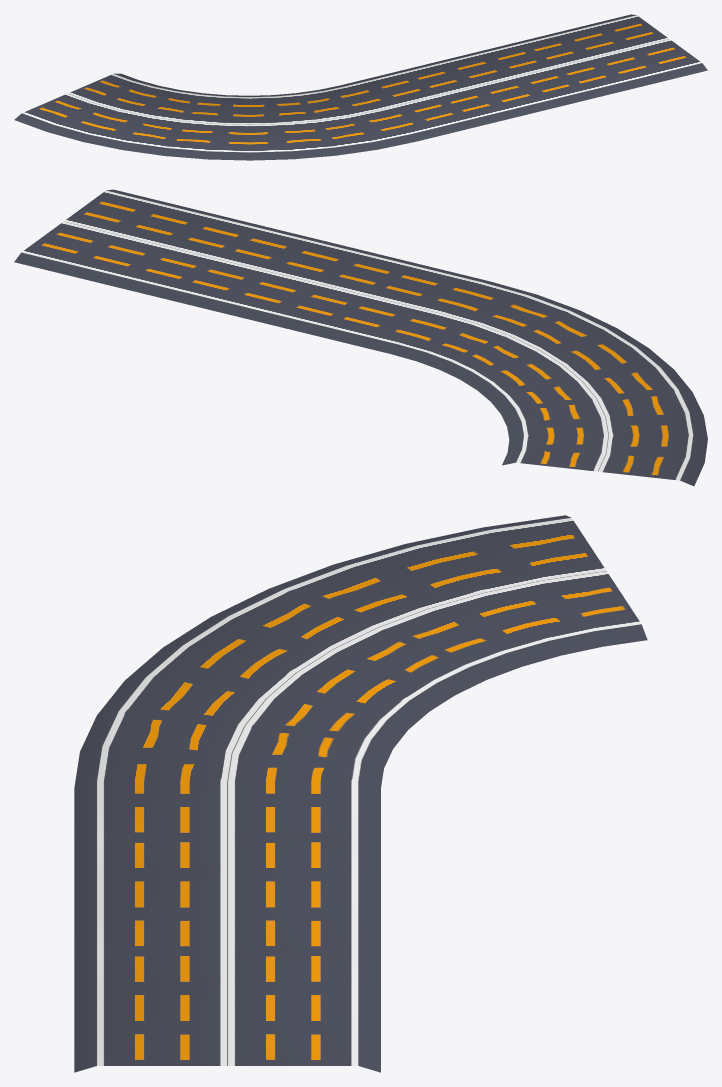
The model's file is CurvedTwo.fbx.
The picture shows the model from 3 angles, top to bottom: view 1: azimuth 30°, elevation 25°; view 2: azimuth 150°, elevation 25°; view 3: azimuth 270°, elevation 25°; orthographic projection. The views are drawn at different scales.
Visible parts, largest first — view 1: Main_Road_Original25; view 2: Main_Road_Original25; view 3: Main_Road_Original25.
Part boxes in pixels (x1=…): Main_Road_Original25: x1=14, y1=14, x2=707, y2=160; Main_Road_Original25: x1=14, y1=189, x2=707, y2=486; Main_Road_Original25: x1=74, y1=515, x2=647, y2=1072.
Size of the model in its own units: 98.04 by 0.5477 by 42.62.
